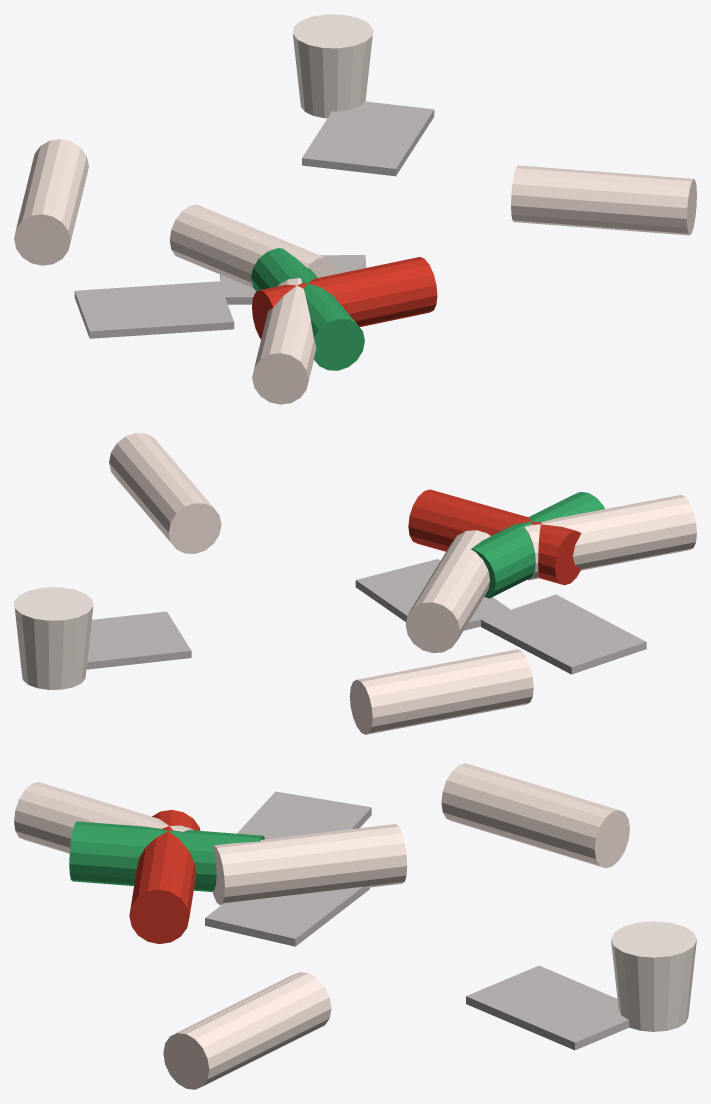
File: litter.glb
3 renders of one model, top to bottom at view 1: azimuth 30°, elevation 25°; view 2: azimuth 150°, elevation 25°; view 3: azimuth 270°, elevation 25°, orthographic. The views are drawn at different scales.
Parts seen in each view (by area): view 1: Cylinder; view 2: Cylinder; view 3: Cylinder.
Boxes of the visible parts, <box> form: Cylinder: <box>14,14,696,404</box>; Cylinder: <box>14,433,696,734</box>; Cylinder: <box>14,763,696,1089</box>.
Bounding box in the file's own units: 8.19 × 1 × 7.94.
Materials: 1 (1 with a texture image).
